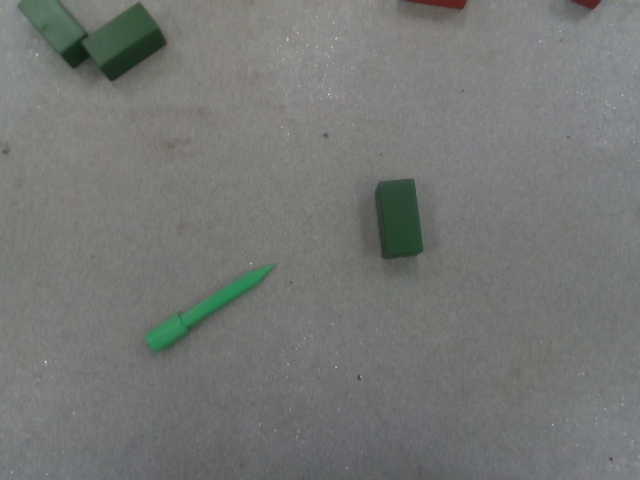Probe: (142, 260, 281, 355)
